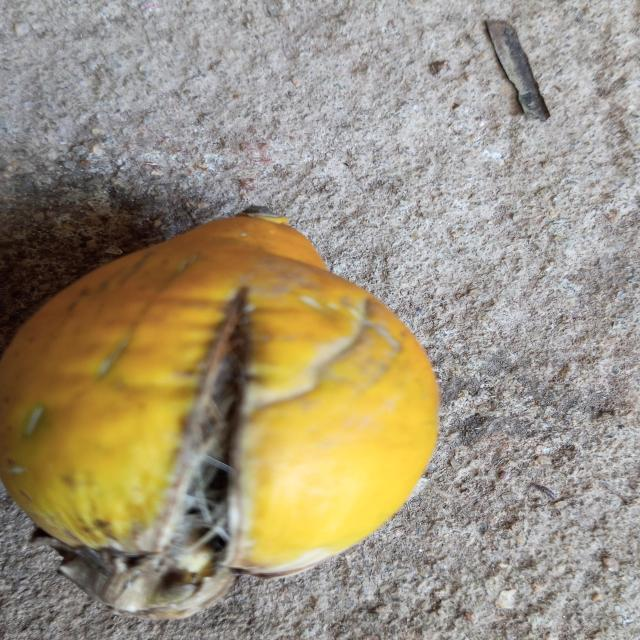damaged: (0, 215, 440, 622)
